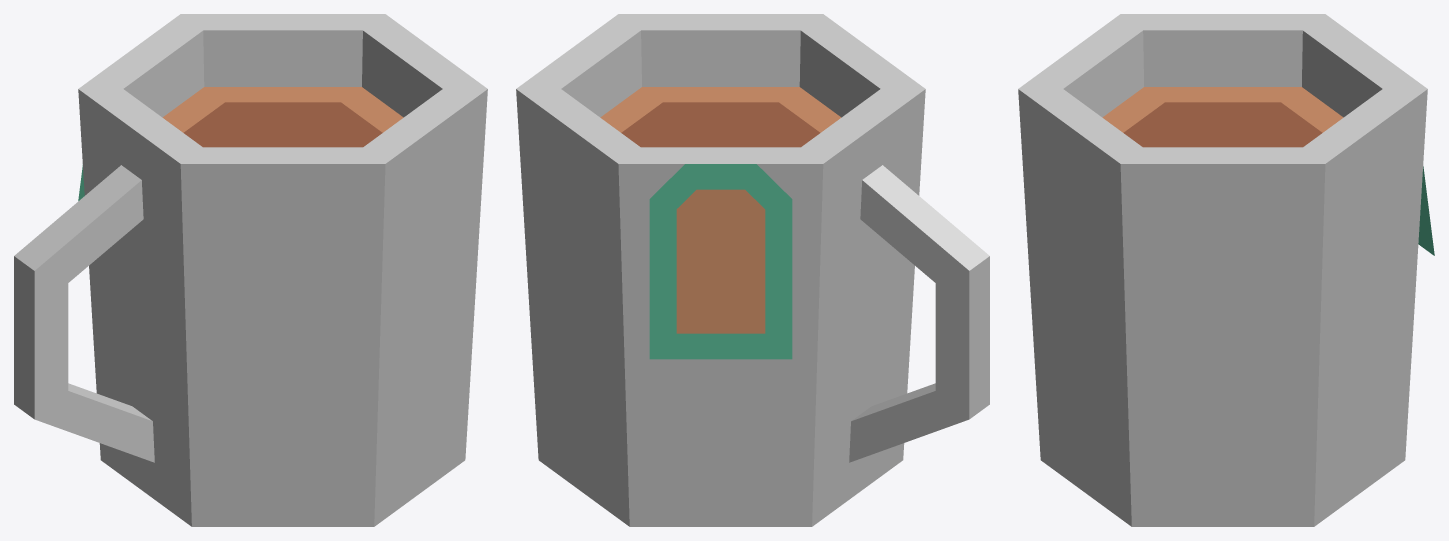
The model's file is cupThea.obj.
The picture shows the model from 3 angles, left to right: view 1: azimuth 30°, elevation 25°; view 2: azimuth 150°, elevation 25°; view 3: azimuth 270°, elevation 25°; orthographic projection.
Parts seen in each view (by area): view 1: cupThea; view 2: cupThea, label; view 3: cupThea, label.
Part boxes in pixels (box(x1,y1,x2,y2)): cupThea: box(14, 14, 487, 526); cupThea: box(516, 14, 989, 526); label: box(649, 164, 792, 359); cupThea: box(1018, 14, 1427, 526); label: box(1418, 166, 1434, 255).
Size of the model in its own units: 0.2325 by 0.2 by 0.2034.
